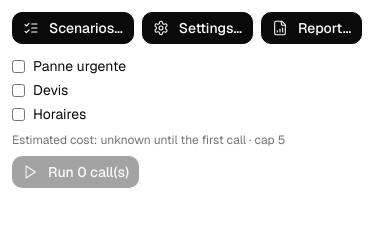
it: [.mark] running a series › refuses a series larger than the settings allow
Expected: the text "Horaires" is shown, [12,105,86,123]
Click the checkbox labelled "Panne urgente": (18, 66) [12,60,25,72]
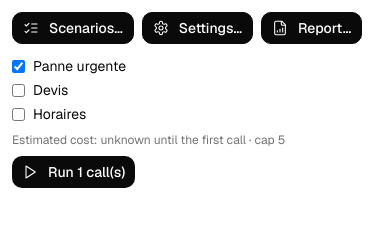
Click the checkbox labelled "Devis": (18, 90) [12,84,25,96]
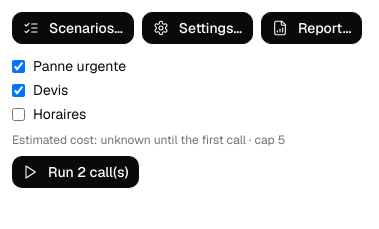
Click the checkbox labelled "Horaires": (18, 114) [12,108,25,120]
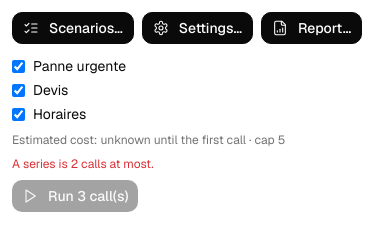
Now the text "A series is 2 calls at most." is shown, box [12,156,154,172]
Now the button "Run 3 call(s)" is disabled, box [12,180,138,212]
